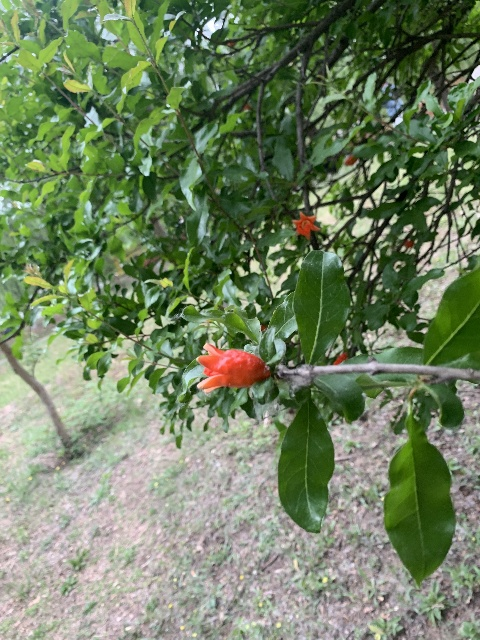flower: (195, 343, 269, 392), (292, 212, 320, 240)
